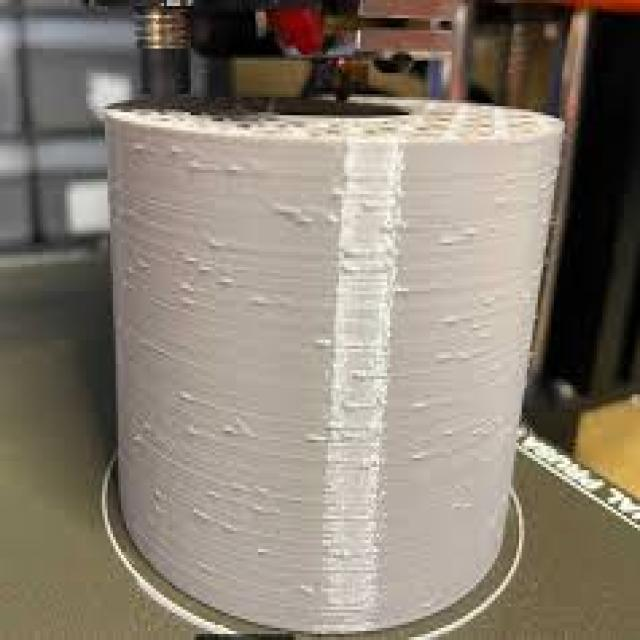blobs: (115, 374, 271, 560), (428, 299, 523, 484), (274, 198, 486, 260), (303, 322, 390, 453), (103, 127, 257, 193), (119, 236, 233, 310)
